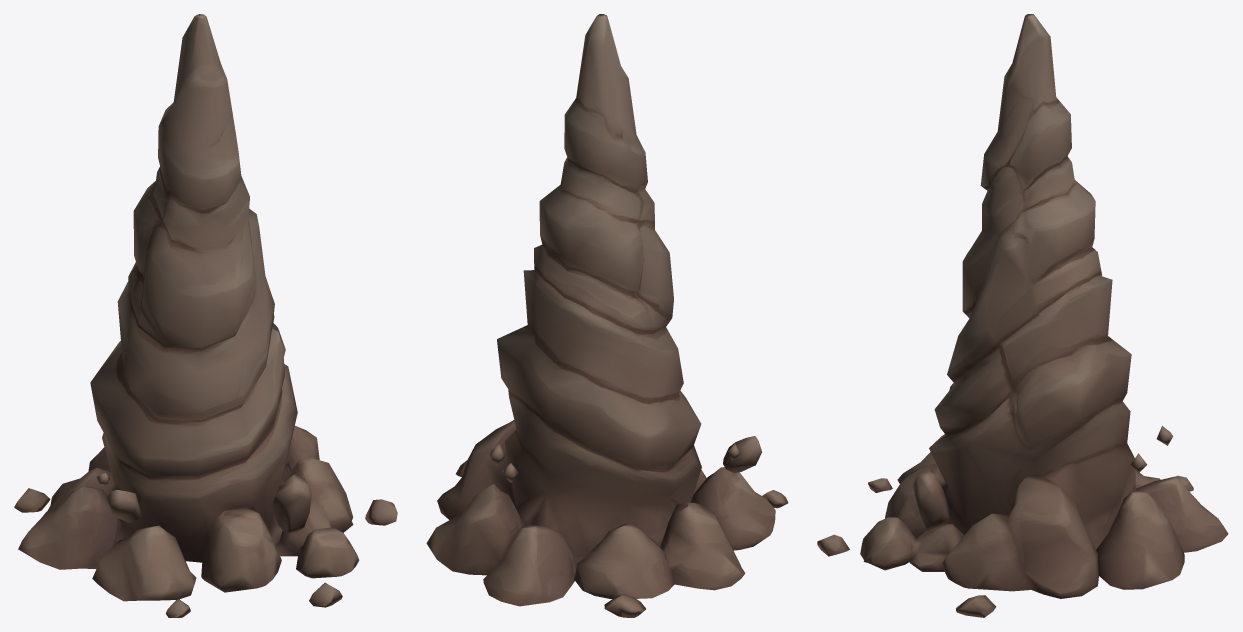
File: spike_tripo.glb
3 renders of one model, left to right at view 1: azimuth 30°, elevation 25°; view 2: azimuth 150°, elevation 25°; view 3: azimuth 270°, elevation 25°, orthographic.
Parts seen in each view (by area): view 1: tripo_node_99345304-4061-4e25-a366-70b7d64a7ee8; view 2: tripo_node_99345304-4061-4e25-a366-70b7d64a7ee8; view 3: tripo_node_99345304-4061-4e25-a366-70b7d64a7ee8.
Part boxes in pixels (x1,y1,x2,y2): tripo_node_99345304-4061-4e25-a366-70b7d64a7ee8: (14, 14, 397, 617); tripo_node_99345304-4061-4e25-a366-70b7d64a7ee8: (426, 14, 788, 617); tripo_node_99345304-4061-4e25-a366-70b7d64a7ee8: (817, 14, 1228, 617).
Bounding box in the file's own units: 0.6621 × 0.998 × 0.7129.
Materials: 1 (1 with a texture image).
